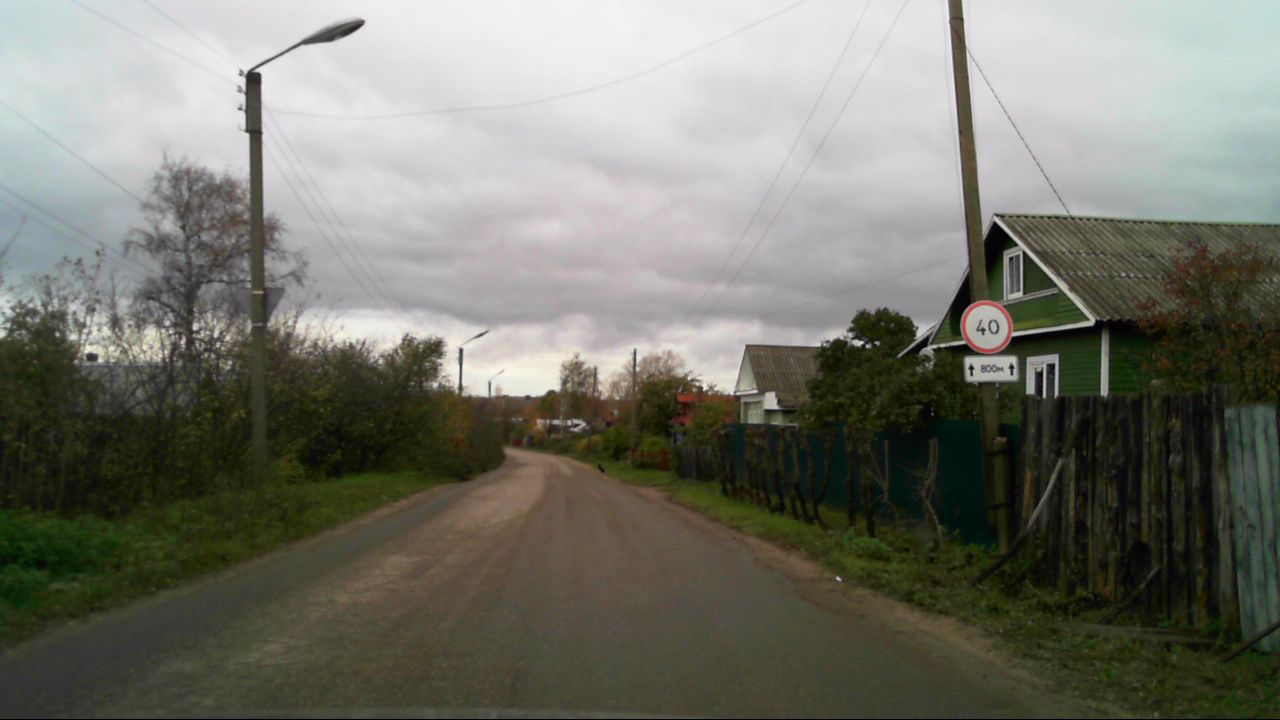speed_warning_40: (959, 299, 1014, 355)
